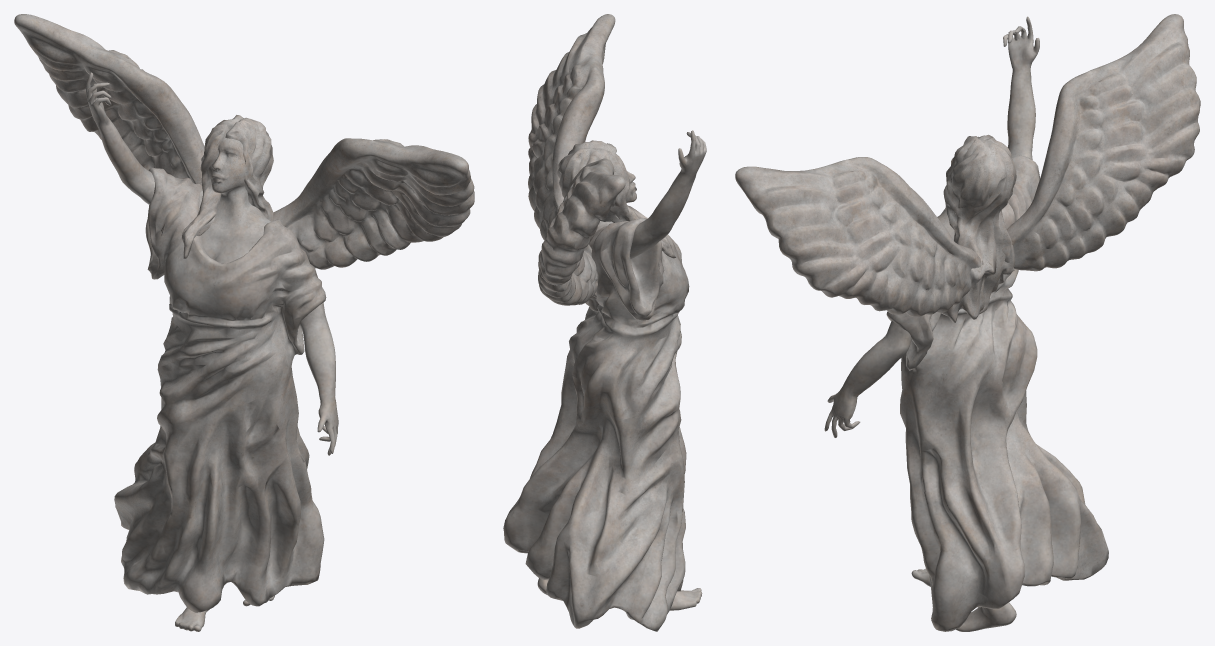
Rendered from Statue_B.fbx.
3 views of the same model, side by side, from view 1: azimuth 30°, elevation 25°; view 2: azimuth 150°, elevation 25°; view 3: azimuth 270°, elevation 25° (orthographic). The views are drawn at different scales.
Visible parts, largest first — view 1: Statue_B; view 2: Statue_B; view 3: Statue_B.
Part boxes in pixels (x1,y1,x2,y2): Statue_B: (14, 14, 474, 631); Statue_B: (503, 14, 706, 631); Statue_B: (735, 14, 1200, 631).
Size of the model in its own units: 3.72 by 7.02 by 5.4.
